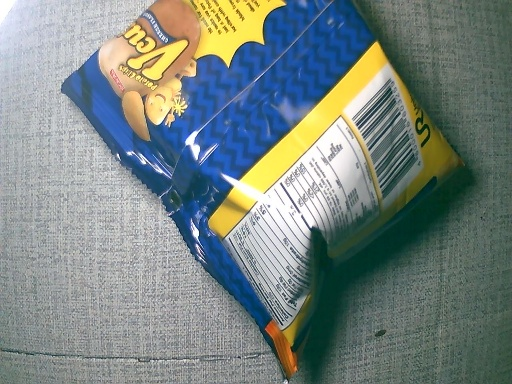plastic: (59, 1, 485, 375)
